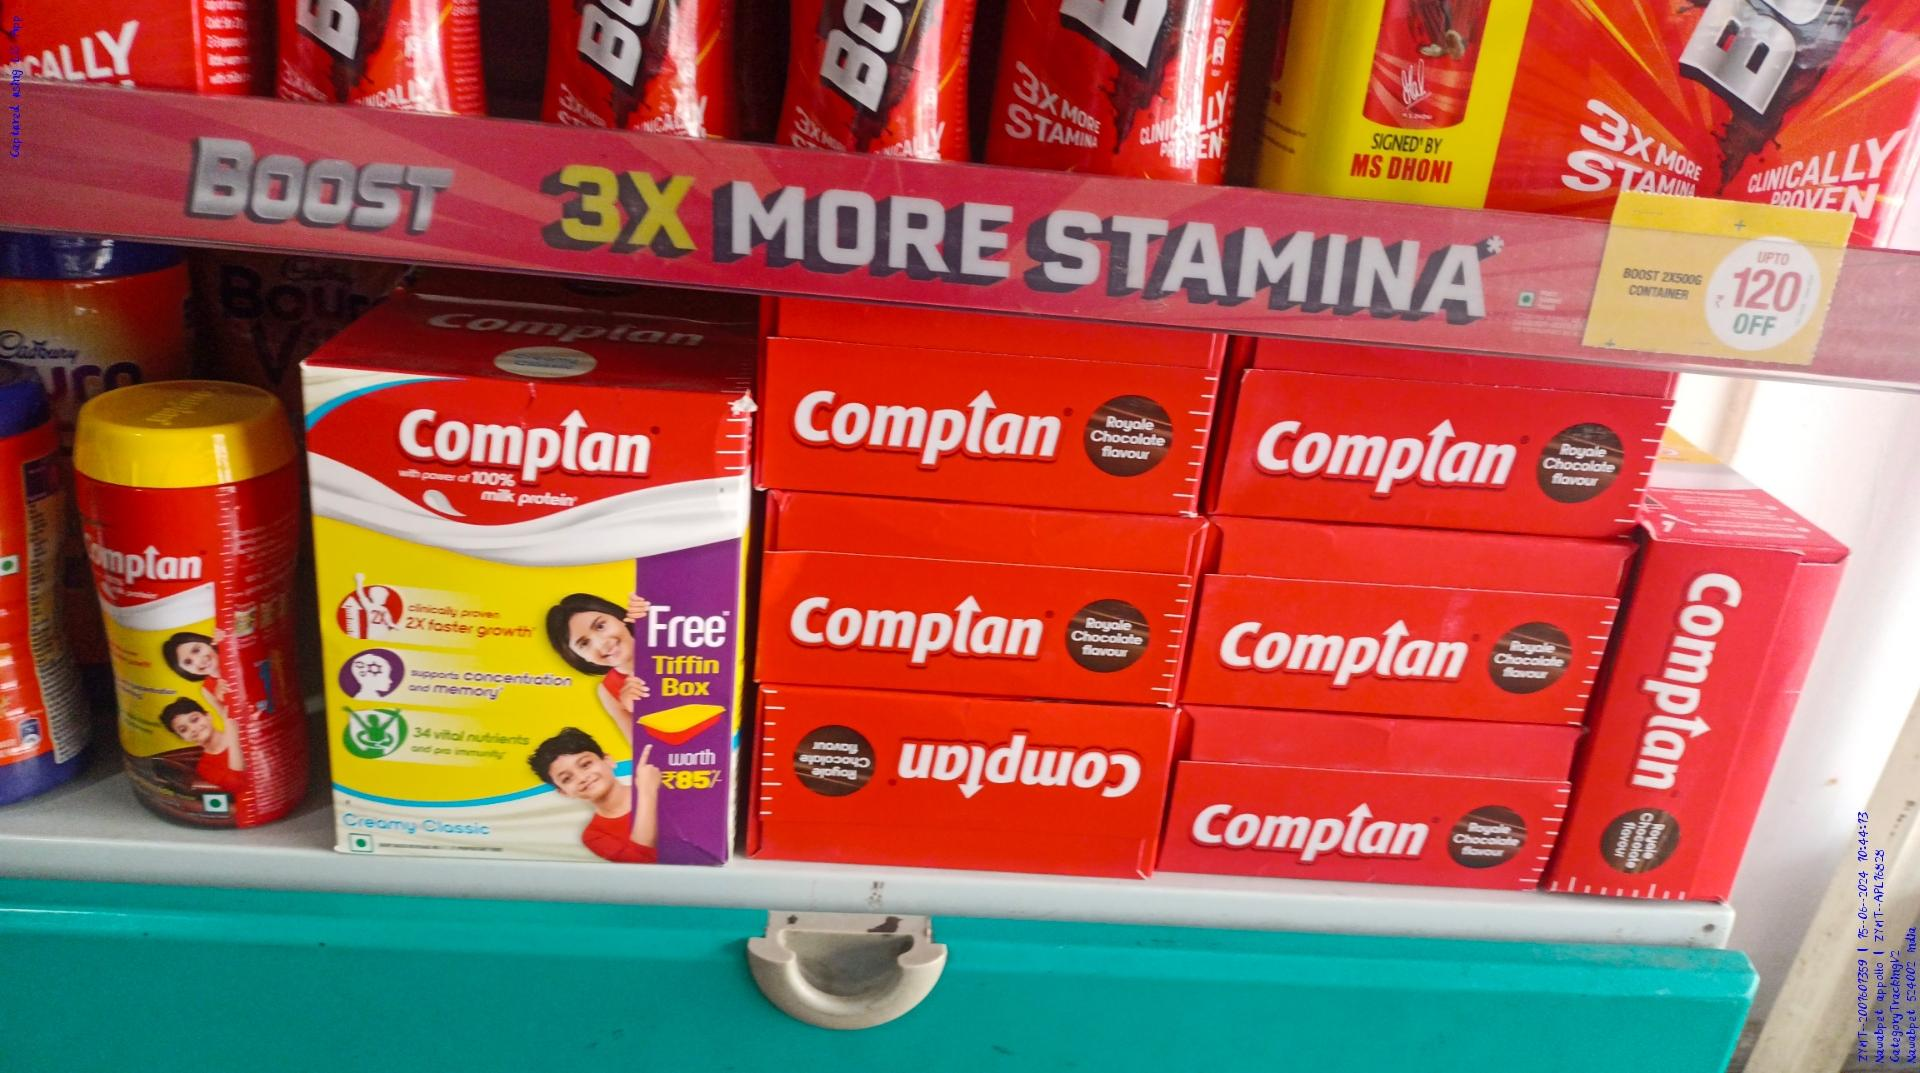COMPLAN_CHOCOLATE_500_GMS_JAR: (82, 391, 303, 823)
COMPLAN_CREAMY_CLASSIC_500_G_PACK: (319, 366, 727, 871)
